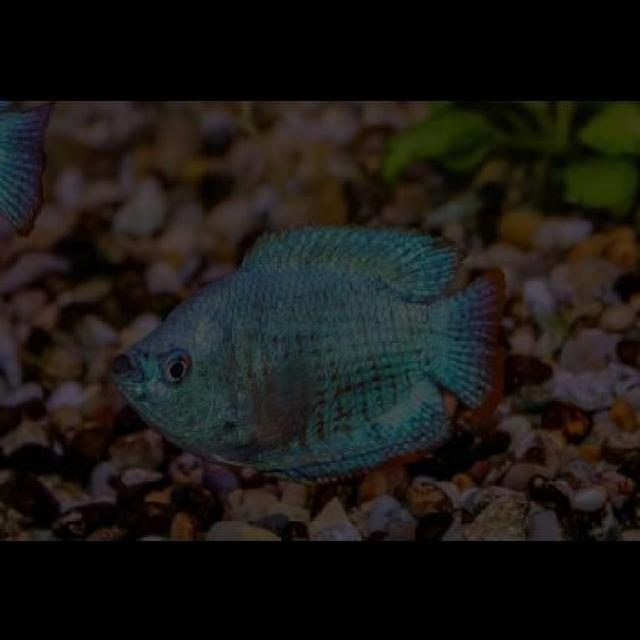Gourami: (105, 218, 513, 480)
